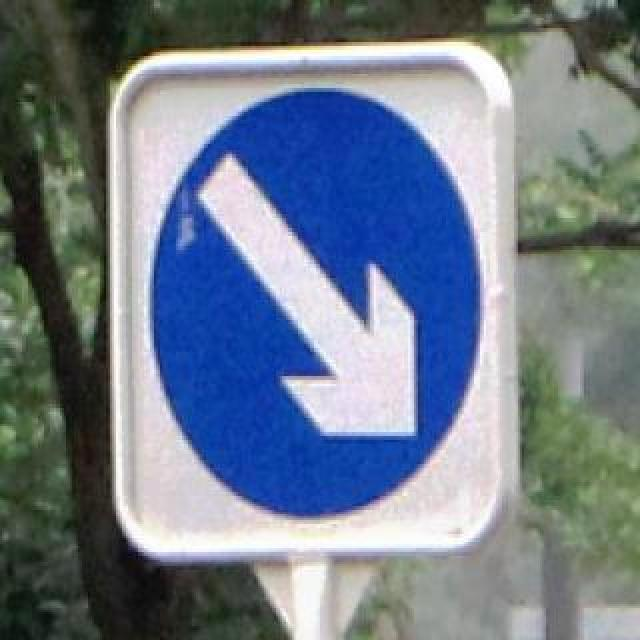keep right: (138, 78, 490, 528)
